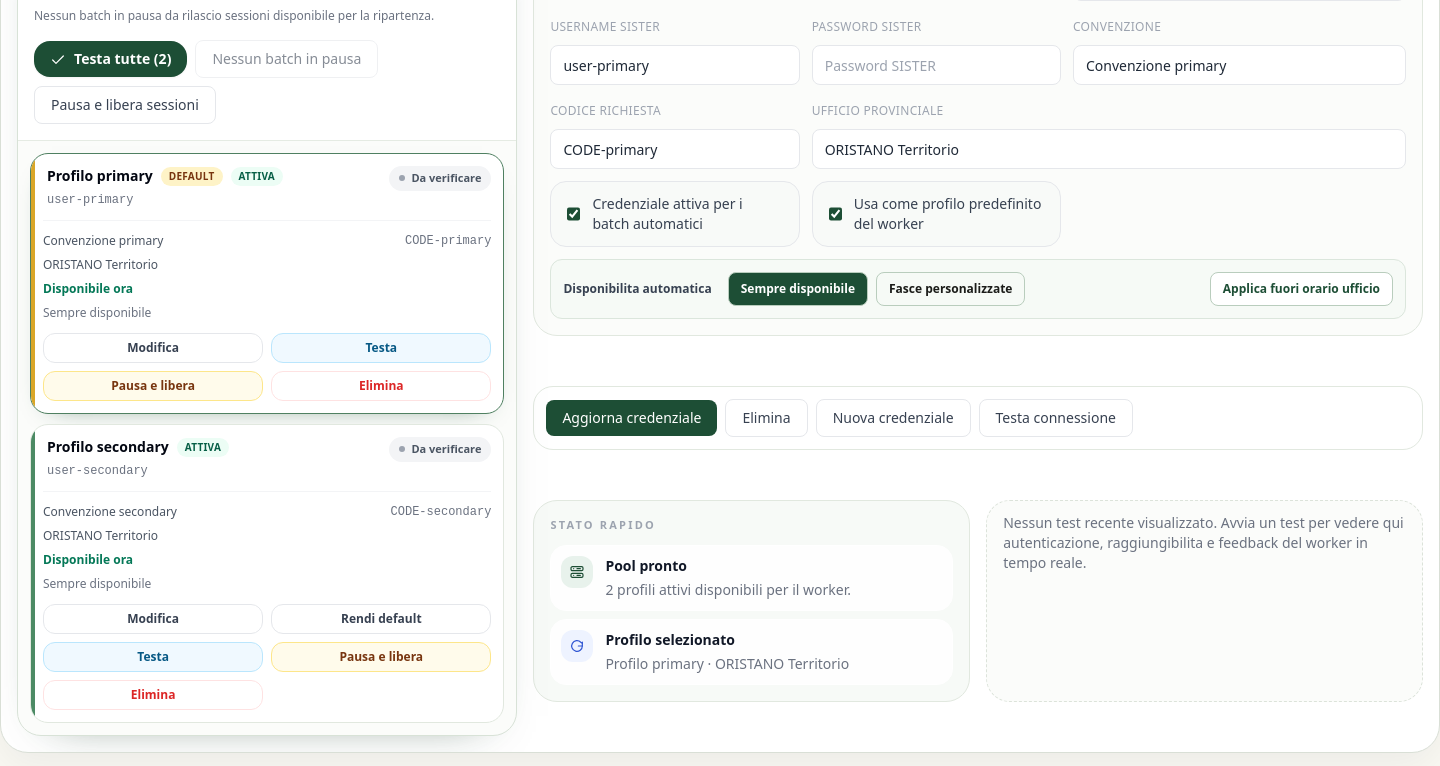
Test case: R38 mounted SISTER credential refresh › selected blank username wins over the default and preserves password and schedule drafts
(page scrolled)
Check: the heading "Profilo secondary" is shown, box x1=47 y1=437 x2=169 y2=457
Check: the list item "Profilo secondary" is shown, box x1=47 y1=437 x2=169 y2=456
Step 1. Click the button "Modifica" below "Convenzione secondary" → x=153, y=619, box x1=43 y1=604 x2=263 y2=634
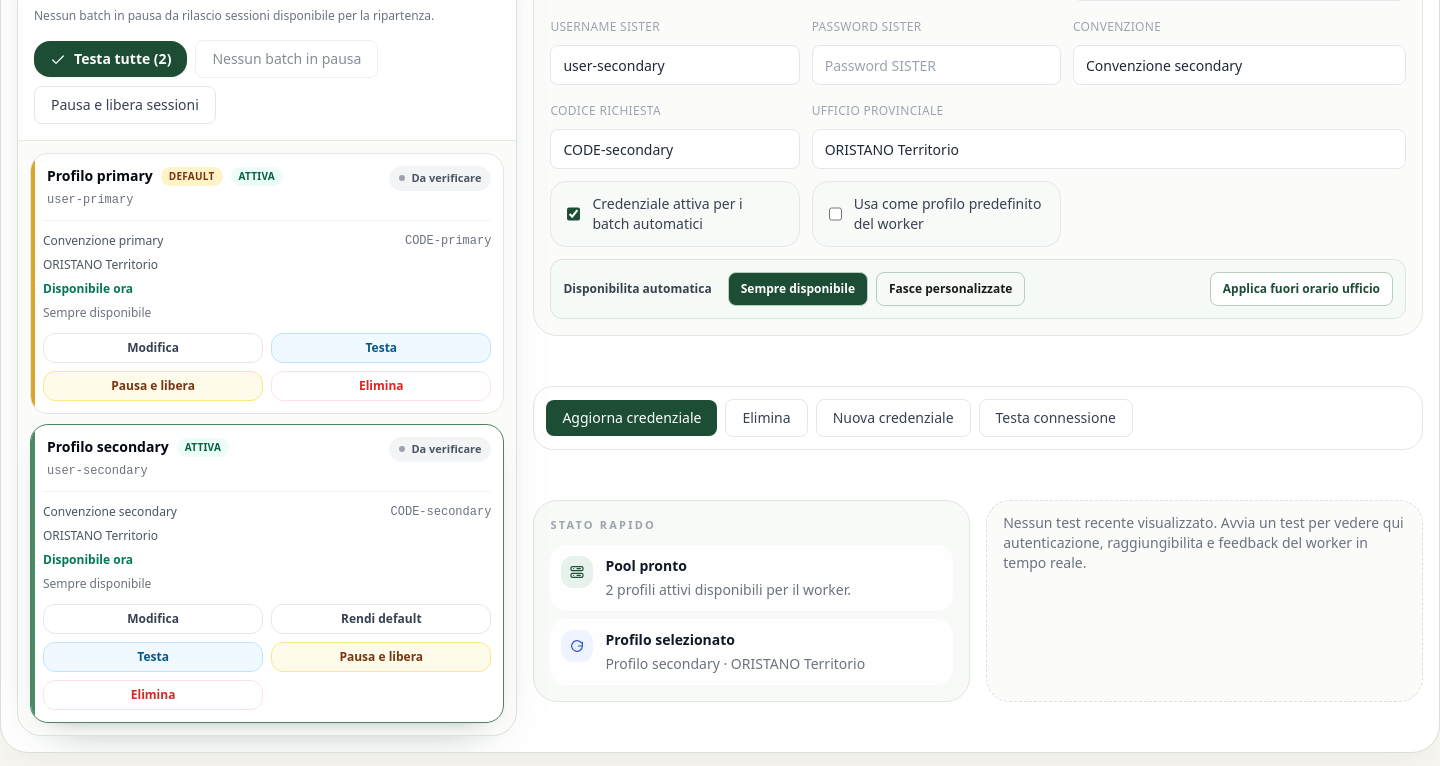
Step 2. Clear the field with placeholder "Codice fiscale / username" → x=675, y=65, box x1=550 y1=45 x2=800 y2=85
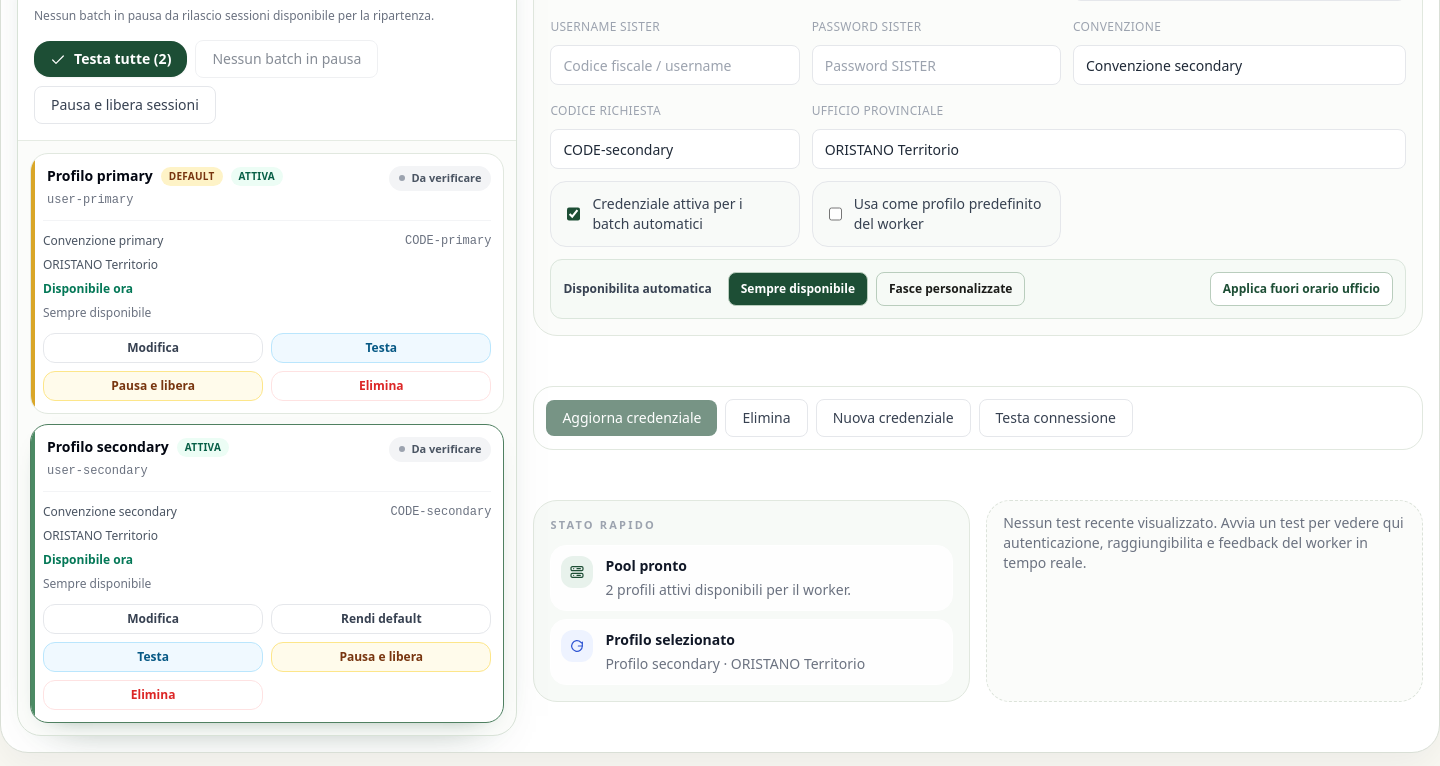
Step 3. Type "password-in-bozza" into the password field with placeholder "Password SISTER" → x=936, y=65, box x1=812 y1=45 x2=1061 y2=85
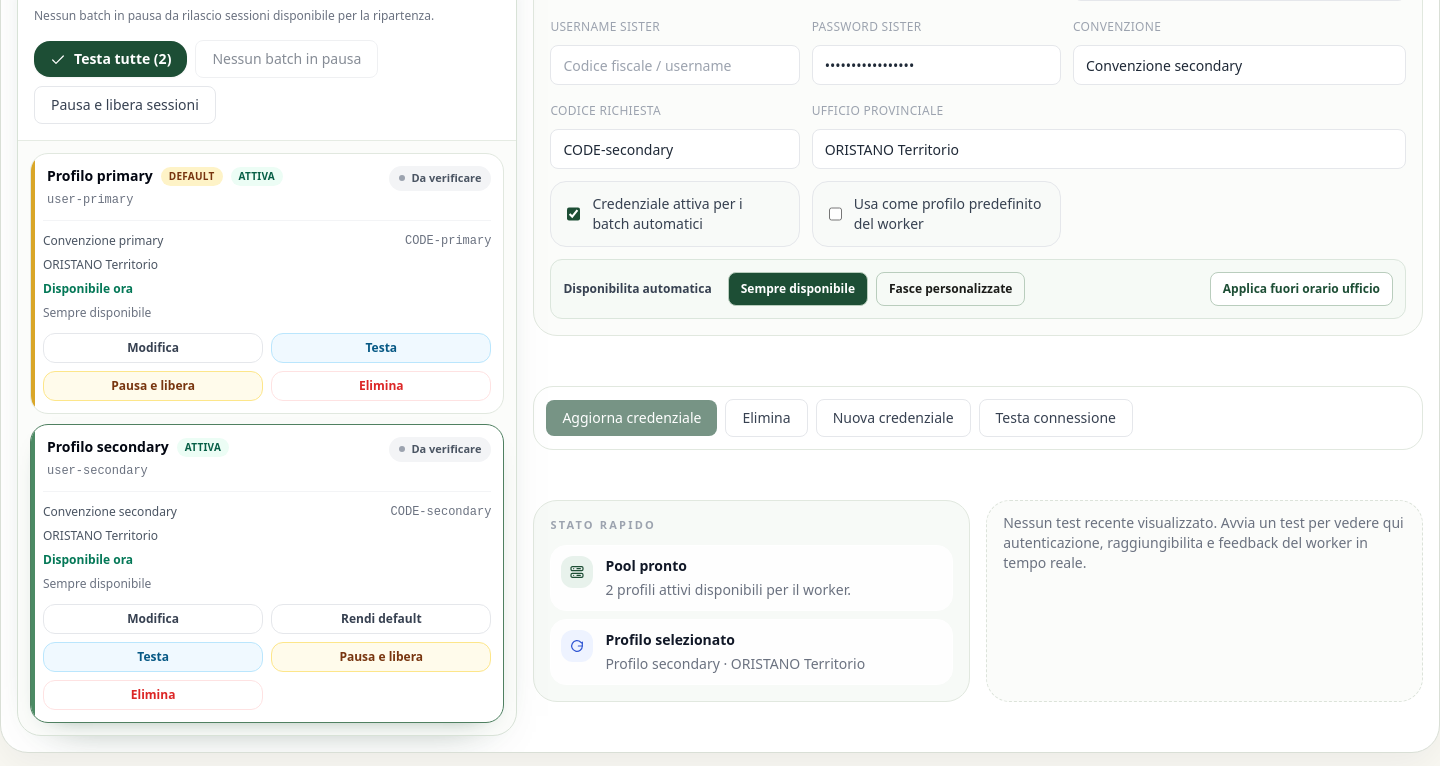
Step 4. Click the button "Fasce personalizzate" → x=951, y=289, box x1=876 y1=272 x2=1025 y2=306
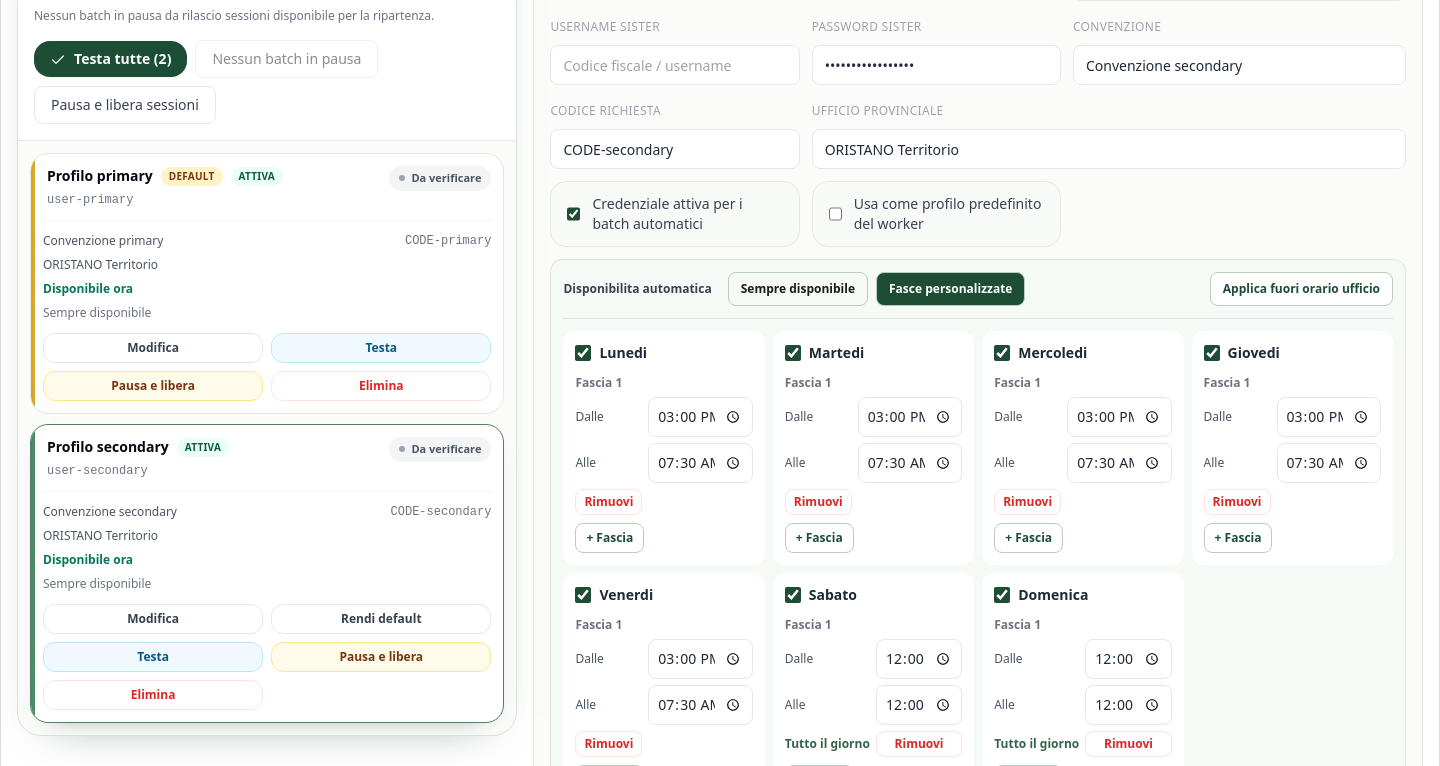
Step 5. Replace the text in the time field named "Lunedi dalle" with "17:45" → x=701, y=417, box x1=648 y1=397 x2=753 y2=437
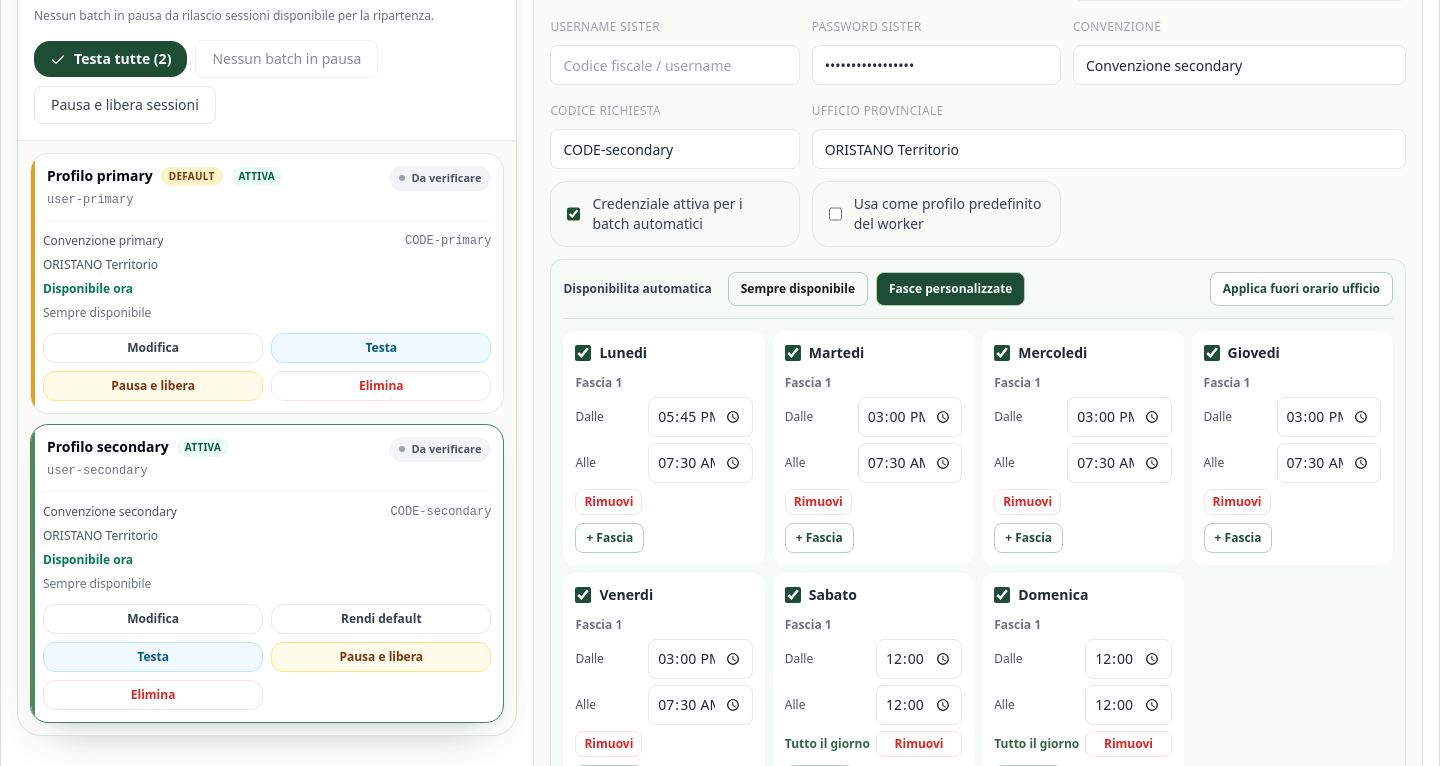
Step 6. Click the button "Pausa e libera sessioni" → x=125, y=105, box x1=34 y1=86 x2=216 y2=124
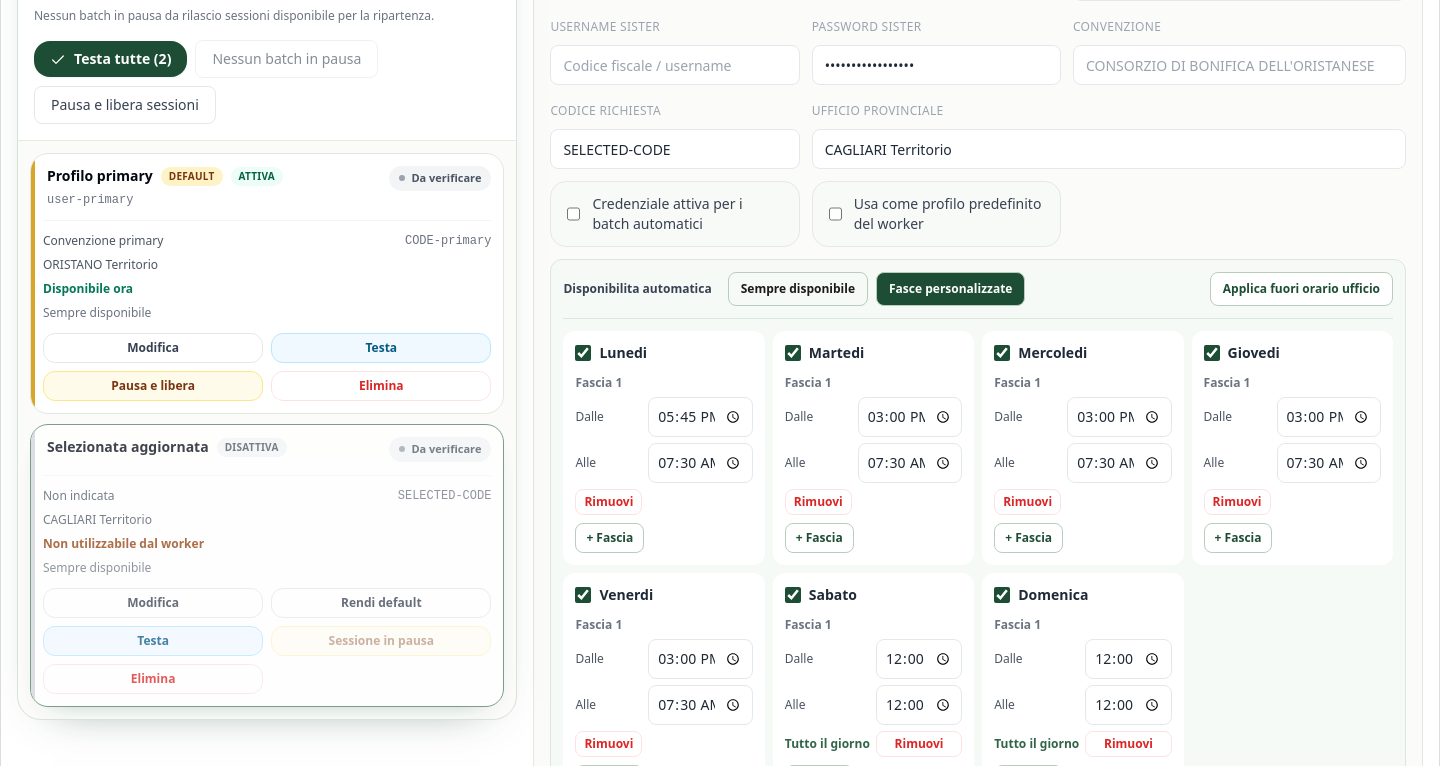
Check: the field with placeholder "CONSORZIO DI BONIFICA DELL'ORISTANESE" is empty, box x1=1073 y1=45 x2=1406 y2=85
Check: the field with placeholder "C00024602008" holds "SELECTED-CODE", box x1=550 y1=129 x2=800 y2=169
Check: the field labelled "Ufficio provinciale" holds "CAGLIARI Territorio", box x1=812 y1=129 x2=1406 y2=169
